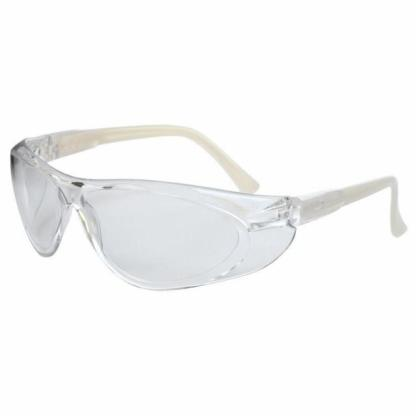oculos: (6, 108, 413, 294)
